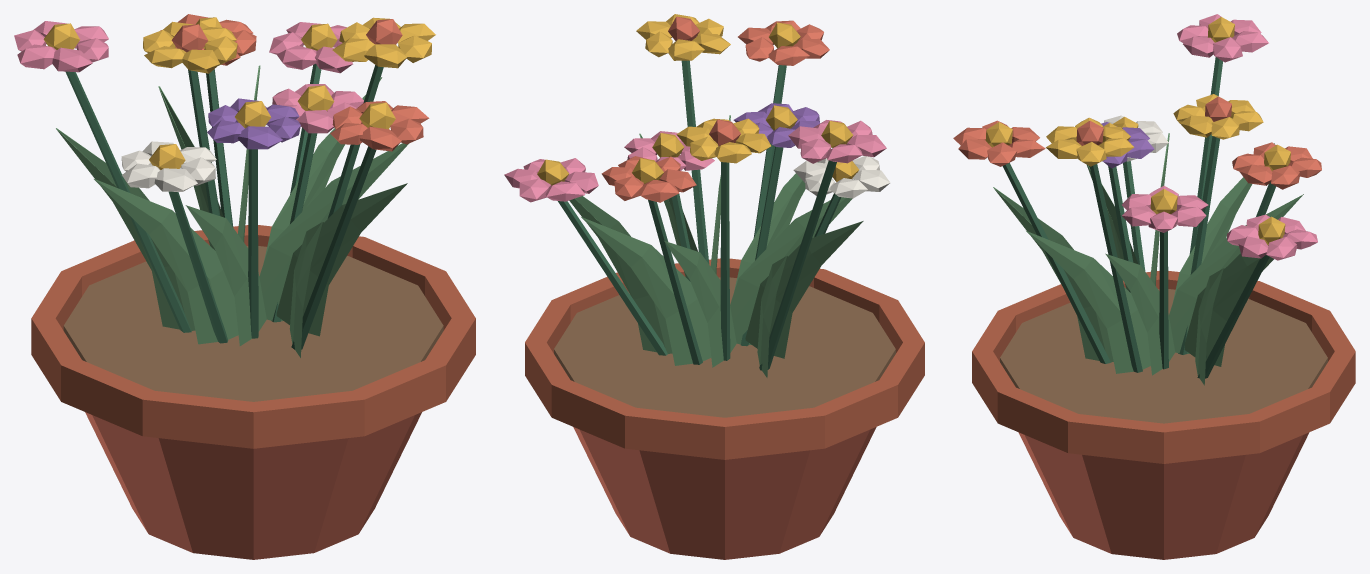
Rendered from PLANT_09.obj.
3 views of the same model, side by side, from view 1: azimuth 30°, elevation 25°; view 2: azimuth 150°, elevation 25°; view 3: azimuth 270°, elevation 25° (orthographic). The views are drawn at different scales.
Visible parts, largest first — view 1: soil, pot_rim, pot, leaves, petals, stems, flower_centers; view 2: soil, pot_rim, pot, leaves, petals, stems, flower_centers; view 3: pot_rim, soil, pot, leaves, petals, stems, flower_centers.
Part boxes in pixels (x1,y1,x2,y2): soil: [63, 246, 443, 401]; pot_rim: [31, 225, 475, 448]; pot: [85, 412, 421, 559]; leaves: [56, 65, 408, 357]; petals: [14, 14, 435, 191]; stems: [65, 63, 383, 349]; flower_centers: [43, 17, 402, 169]; soil: [554, 277, 895, 417]; pot_rim: [525, 258, 924, 459]; pot: [573, 427, 876, 559]; leaves: [569, 115, 863, 377]; petals: [504, 14, 890, 202]; stems: [558, 60, 841, 370]; flower_centers: [537, 16, 859, 185]; pot_rim: [972, 271, 1355, 463]; soil: [1000, 289, 1327, 423]; pot: [1018, 432, 1309, 559]; leaves: [993, 133, 1303, 385]; petals: [953, 14, 1321, 260]; stems: [1002, 57, 1276, 378]; flower_centers: [985, 17, 1290, 245].
Size of the model in its own units: 1.14 by 1.36 by 1.15.
